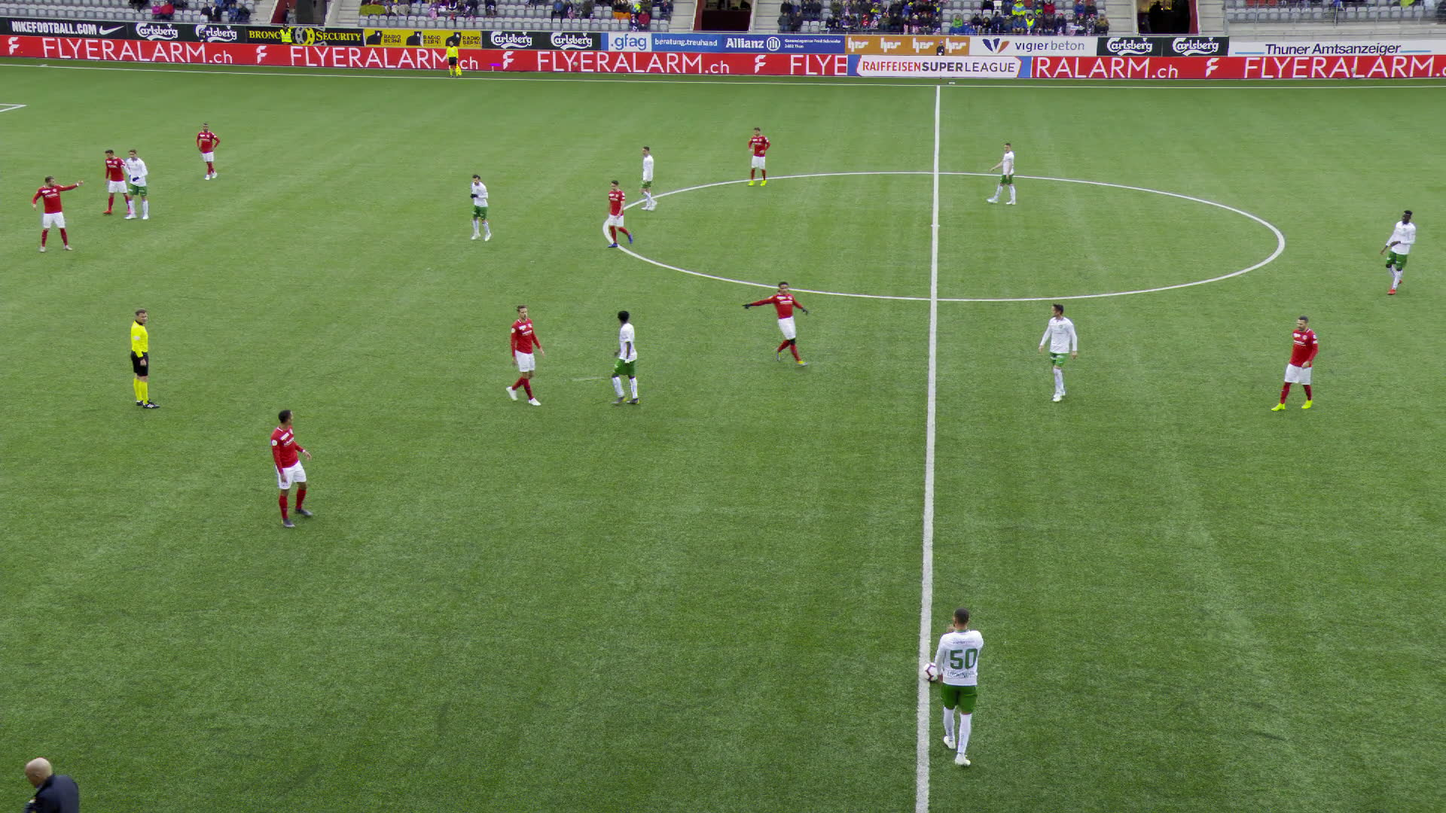ball: (921, 661, 938, 681)
player: (931, 606, 983, 767), (738, 279, 810, 368), (267, 407, 313, 531), (1268, 314, 1319, 414), (28, 173, 86, 253), (1036, 301, 1079, 403), (504, 304, 545, 409), (1376, 208, 1416, 297), (606, 308, 640, 407), (100, 148, 136, 217), (984, 142, 1017, 207), (123, 148, 150, 221), (605, 178, 633, 248), (465, 173, 492, 243), (194, 121, 222, 182), (743, 126, 771, 186), (637, 145, 659, 212)
referee: (128, 308, 160, 412), (444, 39, 464, 78)
